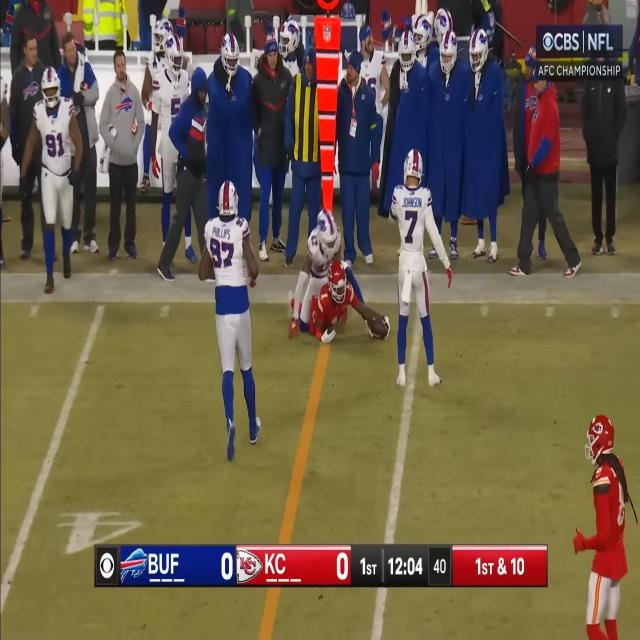Ball: (364, 316, 390, 340)
